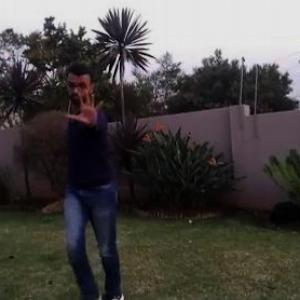follow_hand: (65, 86, 109, 130)
